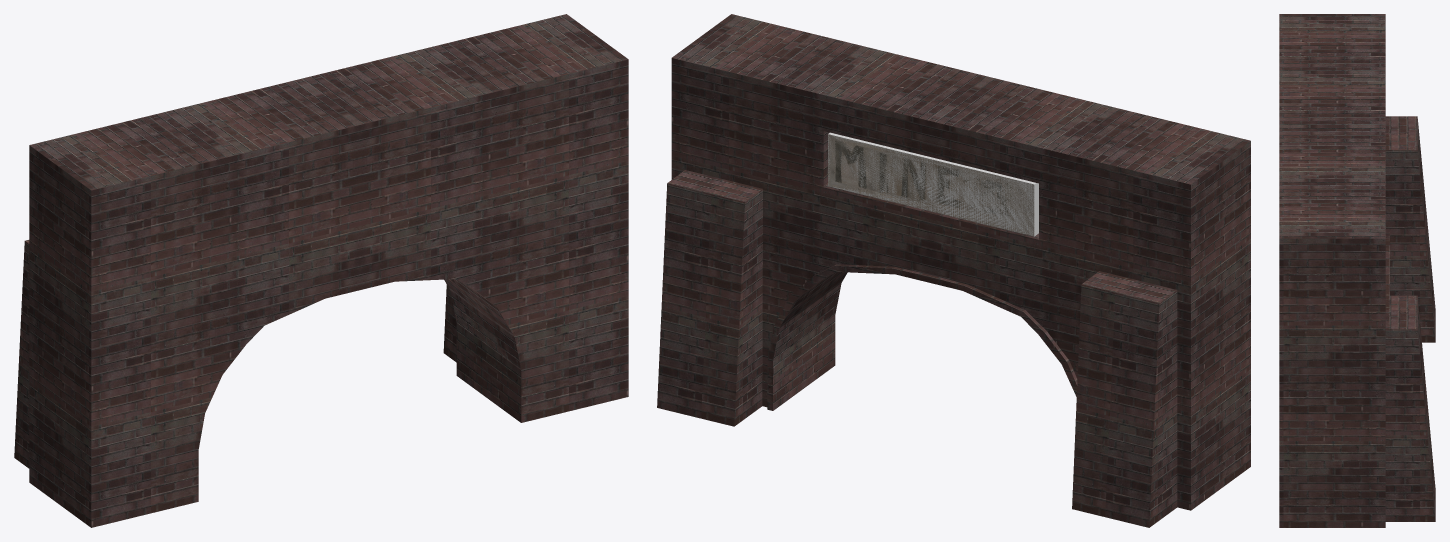
The model's file is TDB_MineGateTemplate.fbx.
The picture shows the model from 3 angles, left to right: view 1: azimuth 30°, elevation 25°; view 2: azimuth 150°, elevation 25°; view 3: azimuth 270°, elevation 25°; orthographic projection. The views are drawn at different scales.
Parts seen in each view (by area): view 1: Gateway; view 2: Gateway, Board Template, Board 3, Board 1, Board 2, Board 5, Board 4, Board 12, Board 11, Board 9, Board 6; view 3: Gateway.
Part boxes in pixels (x1,y1,x2,y2): Gateway: (14, 14, 628, 527); Gateway: (657, 14, 1250, 527); Board Template: (828, 132, 1038, 236); Board 3: (828, 134, 1034, 235); Board 1: (828, 135, 1034, 235); Board 2: (828, 134, 1034, 235); Board 5: (828, 135, 1032, 234); Board 4: (828, 135, 1034, 233); Board 12: (829, 135, 1017, 229); Board 11: (828, 137, 1033, 232); Board 9: (828, 137, 1034, 231); Board 6: (828, 137, 1033, 232); Gateway: (1279, 14, 1435, 527).
Size of the model in its own units: 10 by 2.94 by 6.
